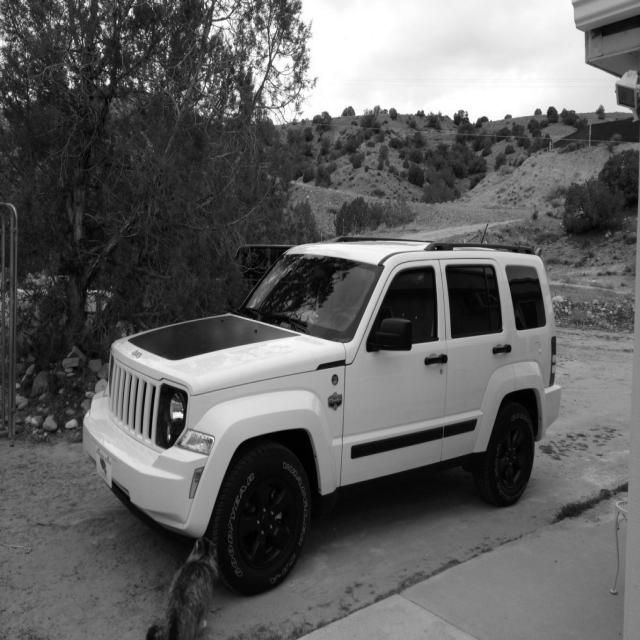car: (81, 236, 562, 596)
